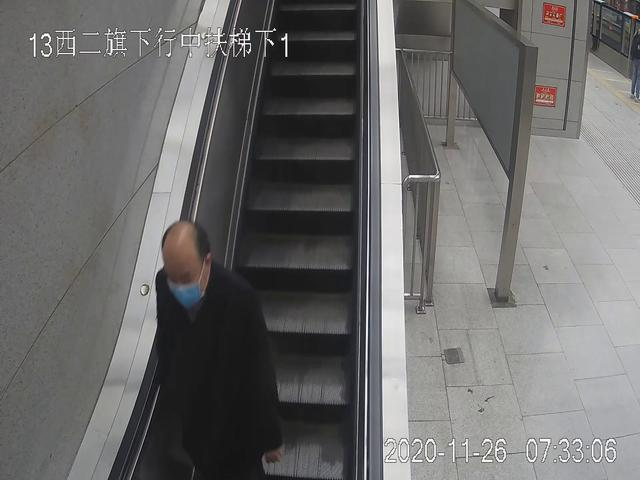person: (156, 220, 284, 480)
